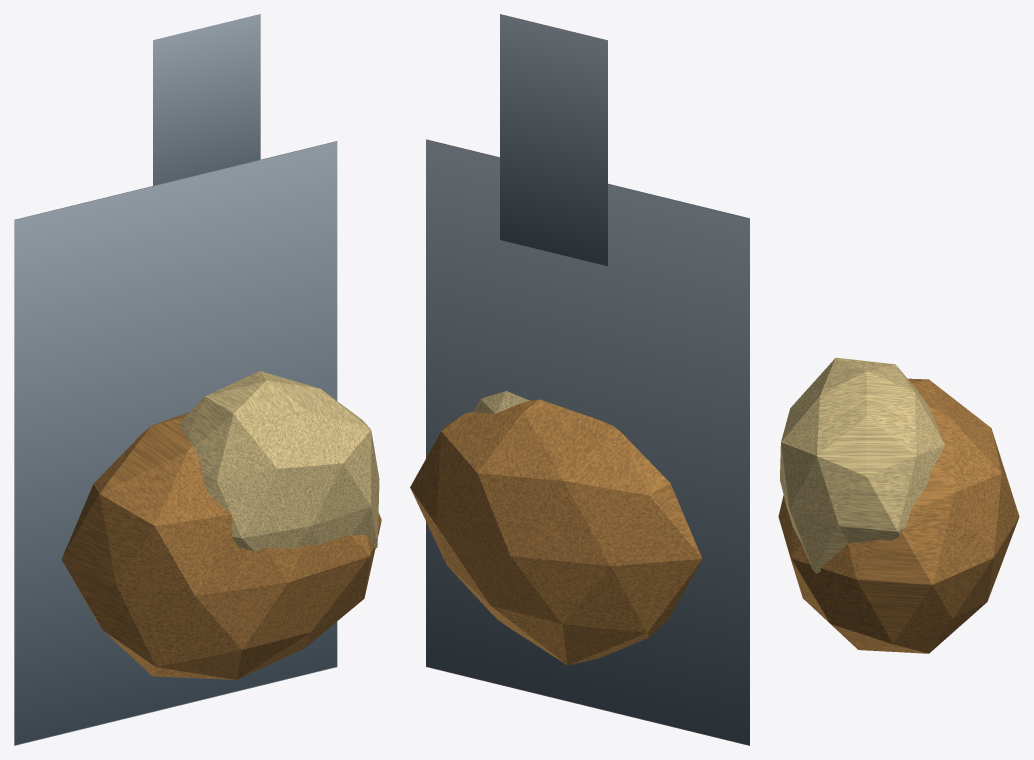
File: bread.glb
3 views of the same model, side by side, from view 1: azimuth 30°, elevation 25°; view 2: azimuth 150°, elevation 25°; view 3: azimuth 270°, elevation 25° (orthographic). The views are drawn at different scales.
Parts seen in each view (by area): view 1: bread__Root__Hook_ALPHA_only, Bread_chunk_MESH, Bread_crumb_MESH, bread__Root__Leader_swivel_ALPHA_only; view 2: bread__Root__Hook_ALPHA_only, Bread_chunk_MESH, bread__Root__Leader_swivel_ALPHA_only, Bread_crumb_MESH; view 3: Bread_chunk_MESH, Bread_crumb_MESH.
Part boxes in pixels (x1=…): bread__Root__Hook_ALPHA_only: x1=14, y1=141, x2=337, y2=745; Bread_chunk_MESH: x1=61, y1=412, x2=381, y2=679; Bread_crumb_MESH: x1=178, y1=371, x2=379, y2=551; bread__Root__Leader_swivel_ALPHA_only: x1=153, y1=14, x2=260, y2=185; bread__Root__Hook_ALPHA_only: x1=426, y1=139, x2=749, y2=745; Bread_chunk_MESH: x1=410, y1=399, x2=702, y2=665; bread__Root__Leader_swivel_ALPHA_only: x1=500, y1=14, x2=607, y2=266; Bread_crumb_MESH: x1=472, y1=391, x2=529, y2=413; Bread_chunk_MESH: x1=778, y1=378, x2=1019, y2=653; Bread_crumb_MESH: x1=780, y1=357, x2=944, y2=573.
Bounding box in the file's own units: 0.0283 × 0.0535 × 0.0181.
3 materials, 3 textured.
